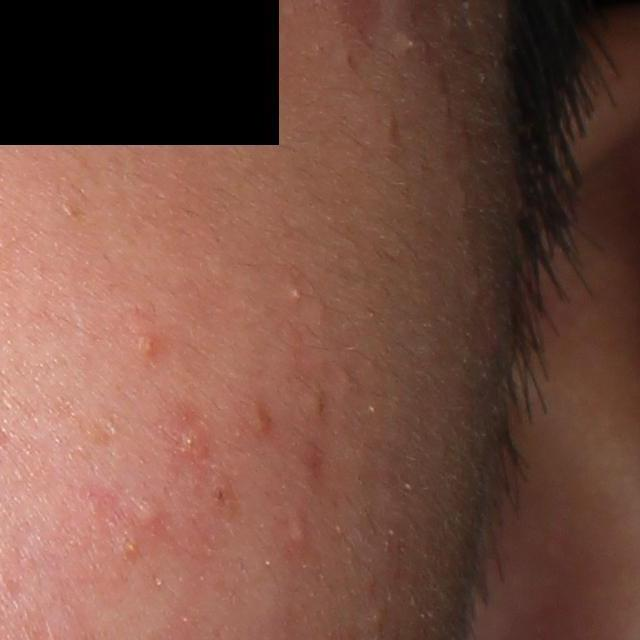comedo: (287, 520, 313, 551), (287, 283, 306, 304)
